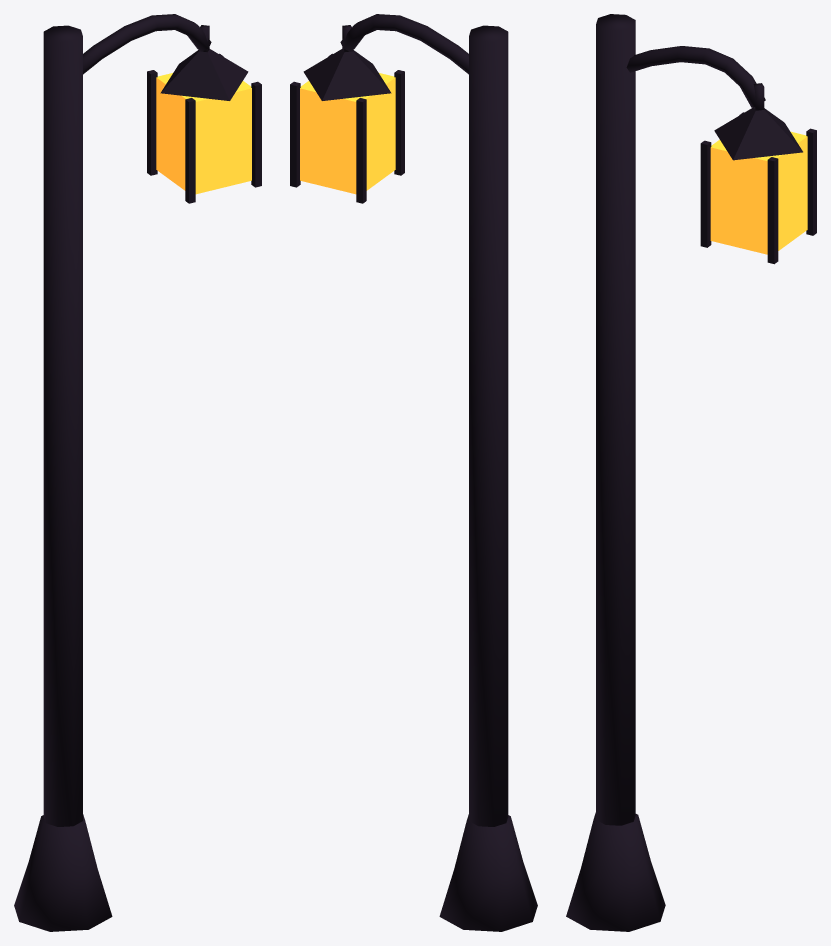
The model's file is lantern_post.glb.
3 views of the same model, side by side, from view 1: azimuth 30°, elevation 25°; view 2: azimuth 150°, elevation 25°; view 3: azimuth 330°, elevation 25° (orthographic).
Parts seen in each view (by area): view 1: lantern_post; view 2: lantern_post; view 3: lantern_post.
Part boxes in pixels (x1,y1,x2,y2): lantern_post: (14, 14, 261, 931); lantern_post: (290, 14, 537, 931); lantern_post: (566, 14, 816, 931).
Size of the model in its own units: 0.52 by 1.9 by 0.2.
